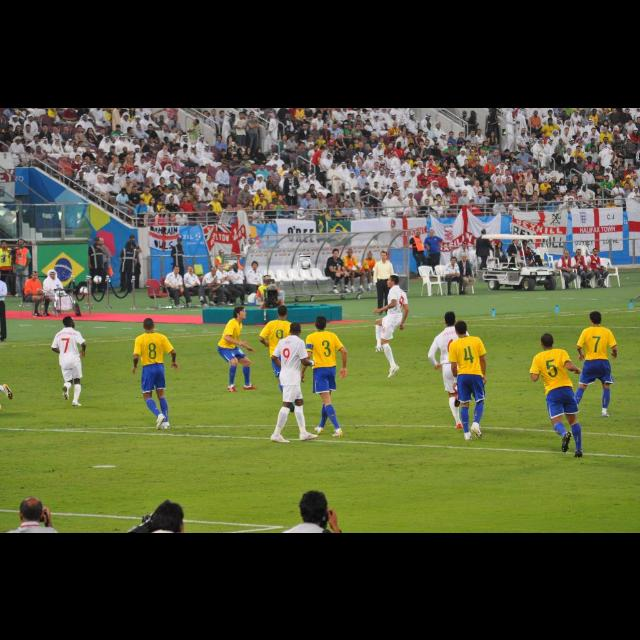Football: (298, 256, 310, 268)
